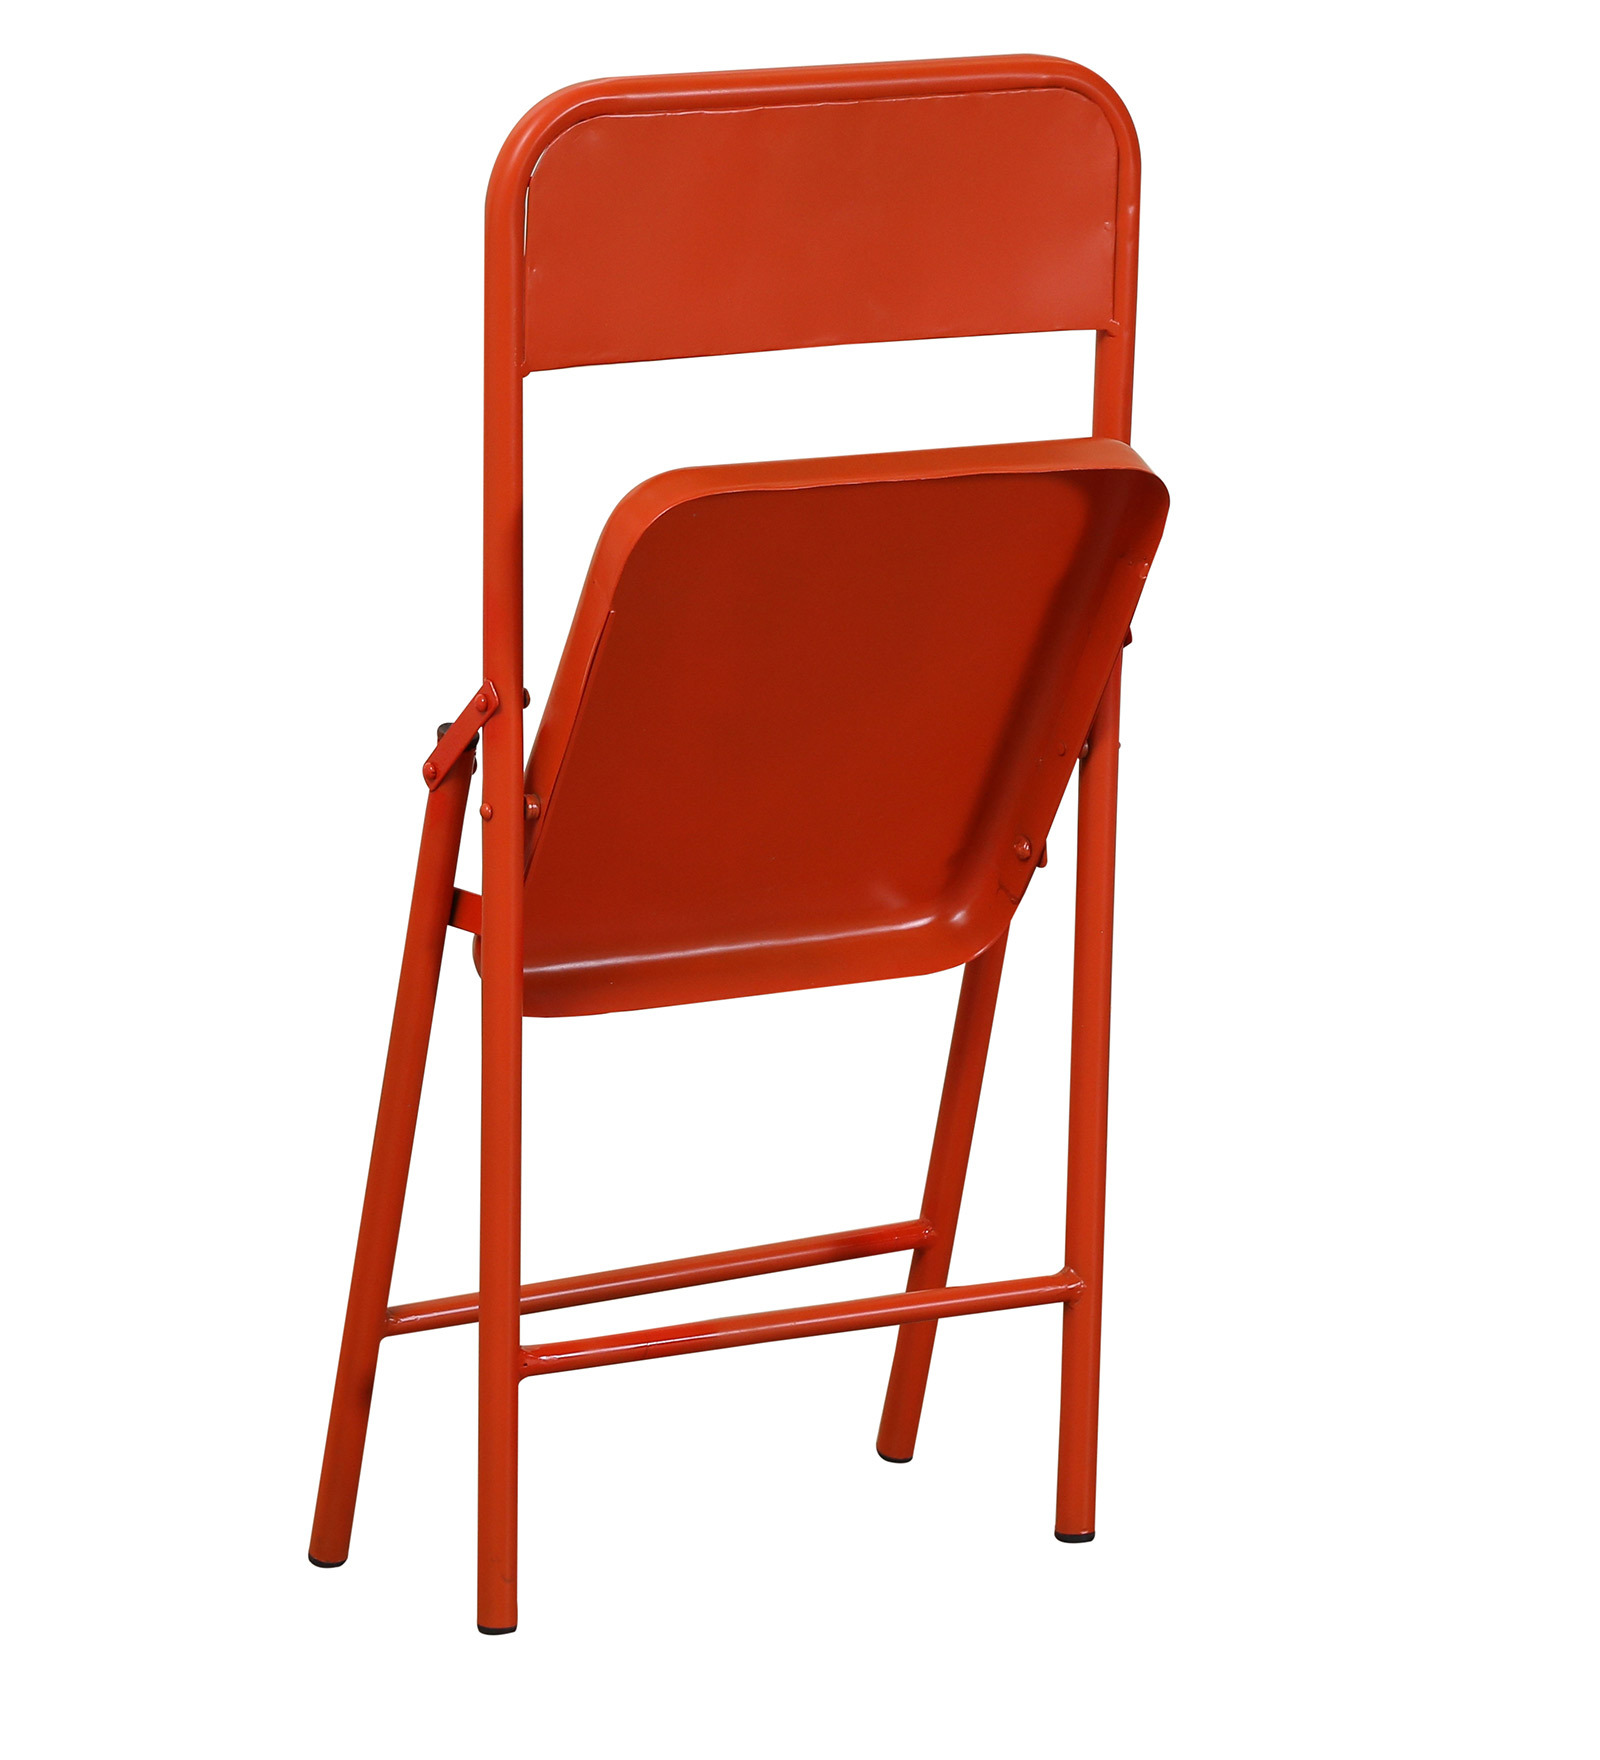Kell Folding Chair in Orange Color by Bohemiana: (277, 54, 1179, 1671)
